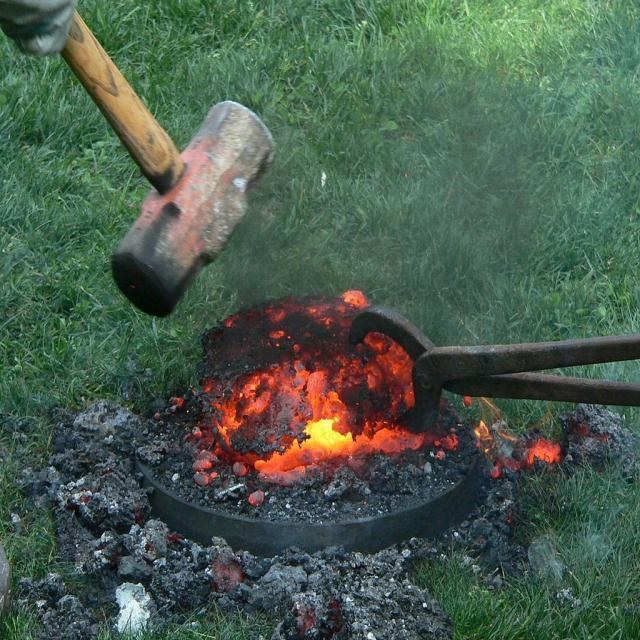hammer: (59, 5, 282, 318)
